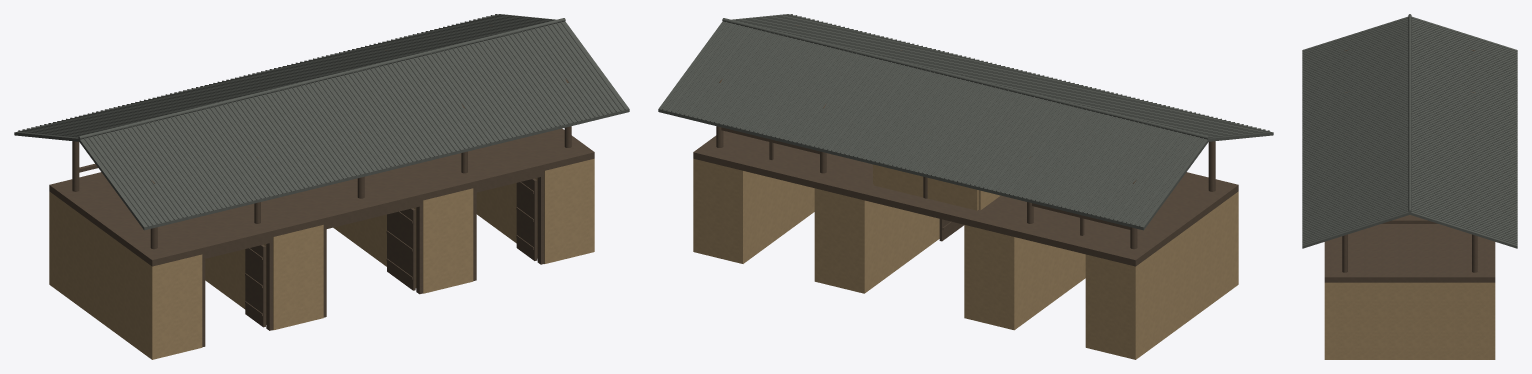
Rendered from kaiyang-K-LOD0.glb.
3 renders of one model, left to right at view 1: azimuth 30°, elevation 25°; view 2: azimuth 150°, elevation 25°; view 3: azimuth 270°, elevation 25°, orthographic. The views are drawn at different scales.
Parts seen in each view (by area): view 1: kaiyang-K-static_tile, kaiyang-K-static_earth, kaiyang-K-static_timber; view 2: kaiyang-K-static_tile, kaiyang-K-static_earth, kaiyang-K-static_timber; view 3: kaiyang-K-static_tile, kaiyang-K-static_earth, kaiyang-K-static_timber.
Boxes of the visible parts, left/top/right/bottom form: kaiyang-K-static_tile: left=14, top=14, right=629, bottom=230; kaiyang-K-static_earth: left=49, top=158, right=594, bottom=359; kaiyang-K-static_timber: left=49, top=25, right=594, bottom=347; kaiyang-K-static_tile: left=658, top=14, right=1273, bottom=230; kaiyang-K-static_earth: left=693, top=158, right=1238, bottom=359; kaiyang-K-static_timber: left=693, top=25, right=1238, bottom=266; kaiyang-K-static_tile: left=1302, top=14, right=1517, bottom=248; kaiyang-K-static_earth: left=1324, top=282, right=1495, bottom=359; kaiyang-K-static_timber: left=1324, top=49, right=1495, bottom=282.
Bounding box in the file's own units: 27.2 × 10.23 × 12.62.
Materials: 3 (3 with a texture image).
